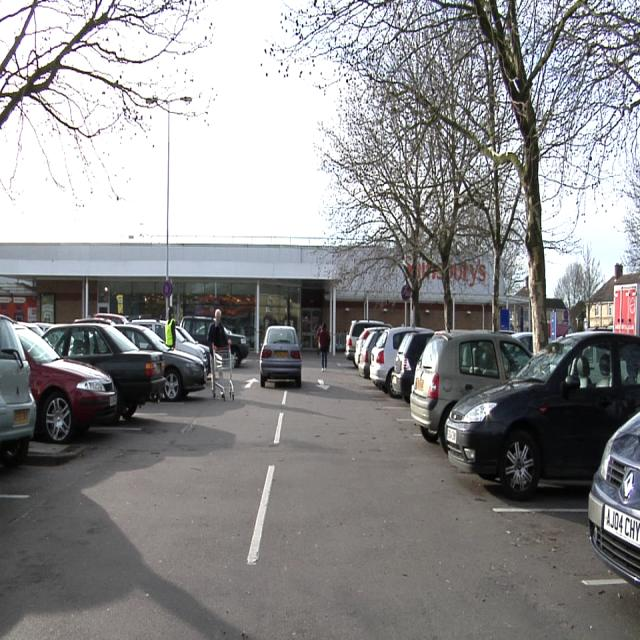Car: (359, 327, 640, 582), (0, 315, 208, 465), (244, 325, 304, 388)
Road: (0, 353, 640, 638)
